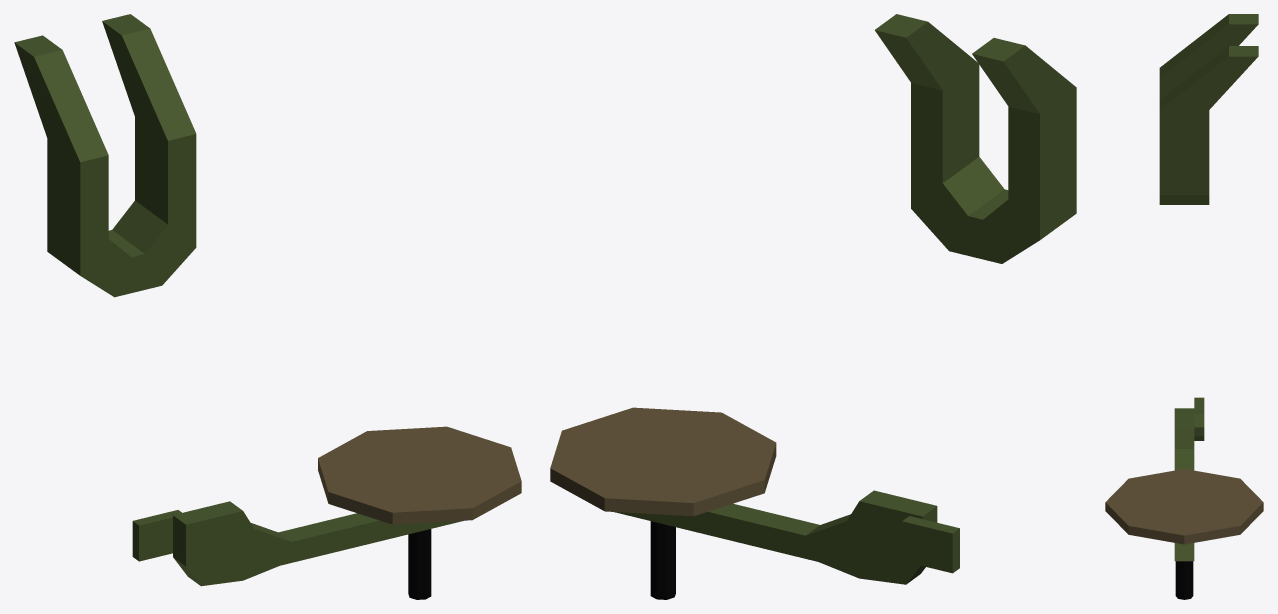
File: rbs70_SEAT_scaled_1_5_(EXPORT).glb
3 views of the same model, side by side, from view 1: azimuth 30°, elevation 25°; view 2: azimuth 150°, elevation 25°; view 3: azimuth 270°, elevation 25° (orthographic). The views are drawn at different scales.
Parts seen in each view (by area): view 1: SEAT MASTER; view 2: SEAT MASTER; view 3: SEAT MASTER.
Boxes of the visible parts, x1,y1,x2,y2 form: SEAT MASTER: (14,14,521,599); SEAT MASTER: (550,14,1076,599); SEAT MASTER: (1105,14,1263,599).
Bounding box in the file's own units: 3.92 × 5.05 × 1.6.
2 materials, 2 textured.
